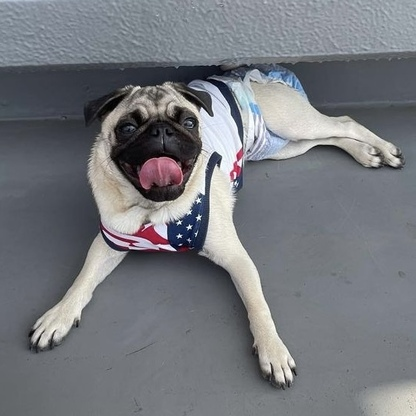Pug: (24, 55, 410, 397)
